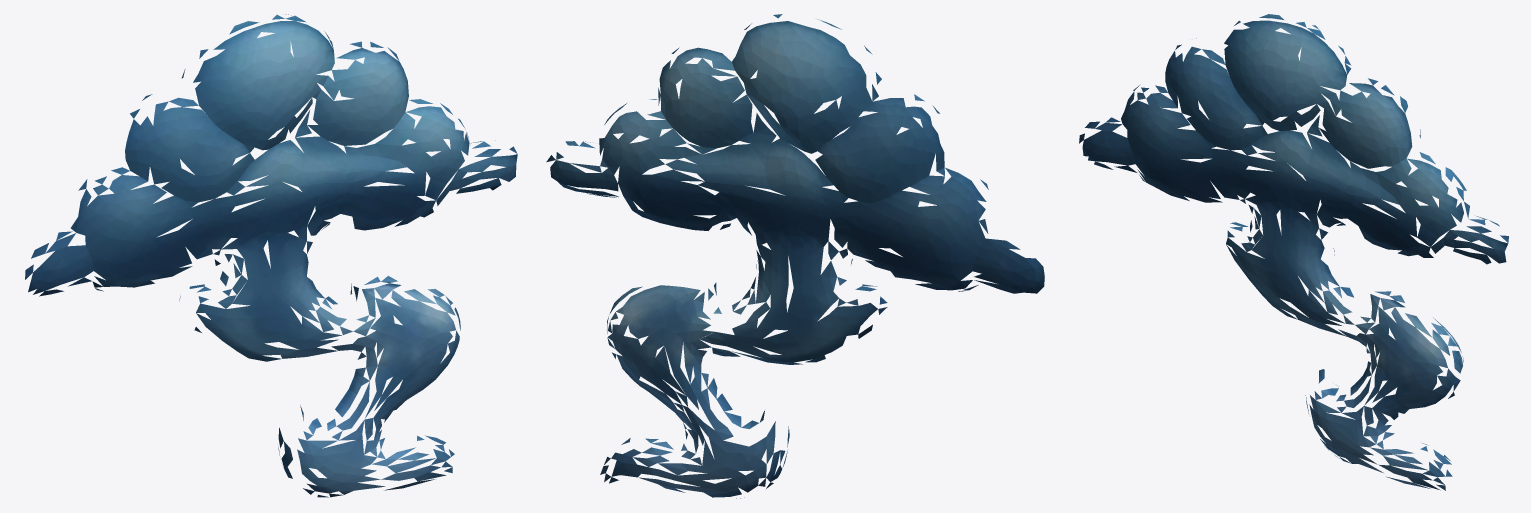
The model's file is stormy_cloud.glb.
3 renders of one model, left to right at view 1: azimuth 30°, elevation 25°; view 2: azimuth 150°, elevation 25°; view 3: azimuth 330°, elevation 25°, orthographic. The views are drawn at different scales.
Parts seen in each view (by area): view 1: world.001; view 2: world.001; view 3: world.001.
Boxes of the visible parts, <box> form: world.001: <box>25,14,517,497</box>; world.001: <box>546,14,1044,498</box>; world.001: <box>1079,14,1508,490</box>.
Bounding box in the file's own units: 0.9686 × 0.9465 × 0.1068.
1 material, 1 textured.
